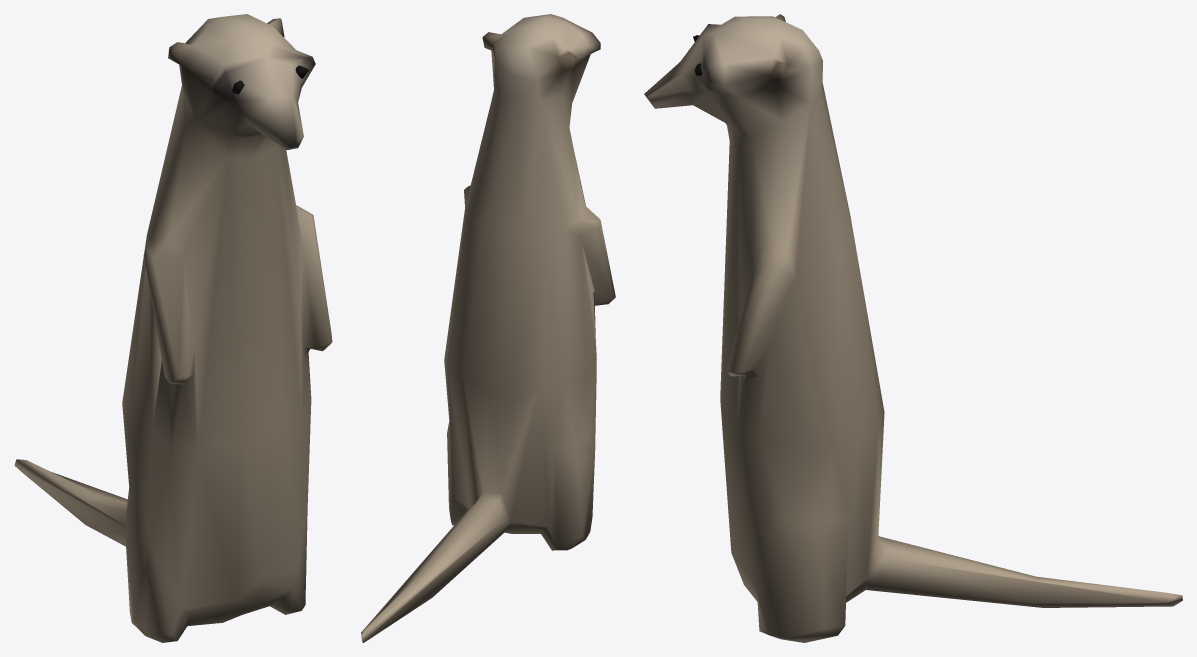
Rendered from erdmaennchen.glb.
3 views of the same model, side by side, from view 1: azimuth 30°, elevation 25°; view 2: azimuth 150°, elevation 25°; view 3: azimuth 270°, elevation 25° (orthographic). The views are drawn at different scales.
Parts seen in each view (by area): view 1: lack; view 2: lack; view 3: lack.
Boxes of the visible parts, x1,y1,x2,y2 form: lack: [14, 14, 332, 642]; lack: [361, 14, 615, 642]; lack: [644, 14, 1182, 642].
Bounding box in the file's own units: 0.0894 × 0.3131 × 0.2573.
